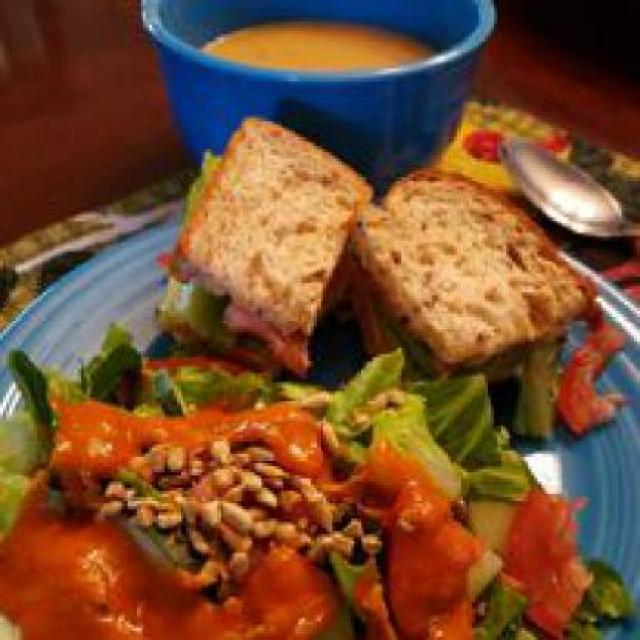clam chowder: (143, 4, 472, 108)
club sandwich: (124, 118, 590, 376)
sashimi: (9, 366, 628, 637)
